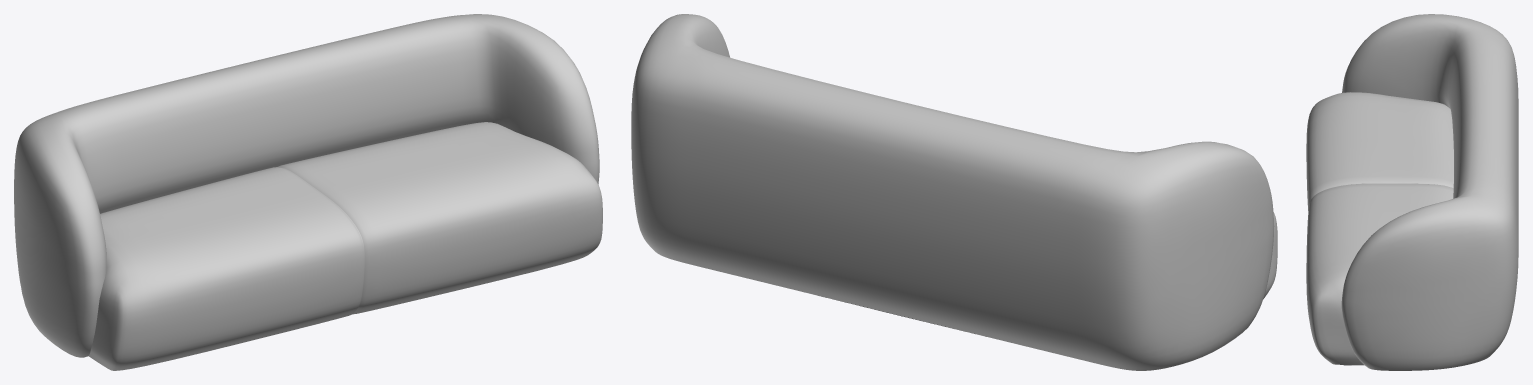
Rendered from sofa.obj.
3 views of the same model, side by side, from view 1: azimuth 30°, elevation 25°; view 2: azimuth 150°, elevation 25°; view 3: azimuth 270°, elevation 25° (orthographic). The views are drawn at different scales.
Parts seen in each view (by area): view 1: sofa; view 2: sofa; view 3: sofa.
Part boxes in pixels (left/top/right/bottom): sofa: left=14, top=14, right=602, bottom=370; sofa: left=631, top=14, right=1277, bottom=370; sofa: left=1306, top=14, right=1518, bottom=370.
Bounding box in the file's own units: 210 × 70.94 × 86.69.
